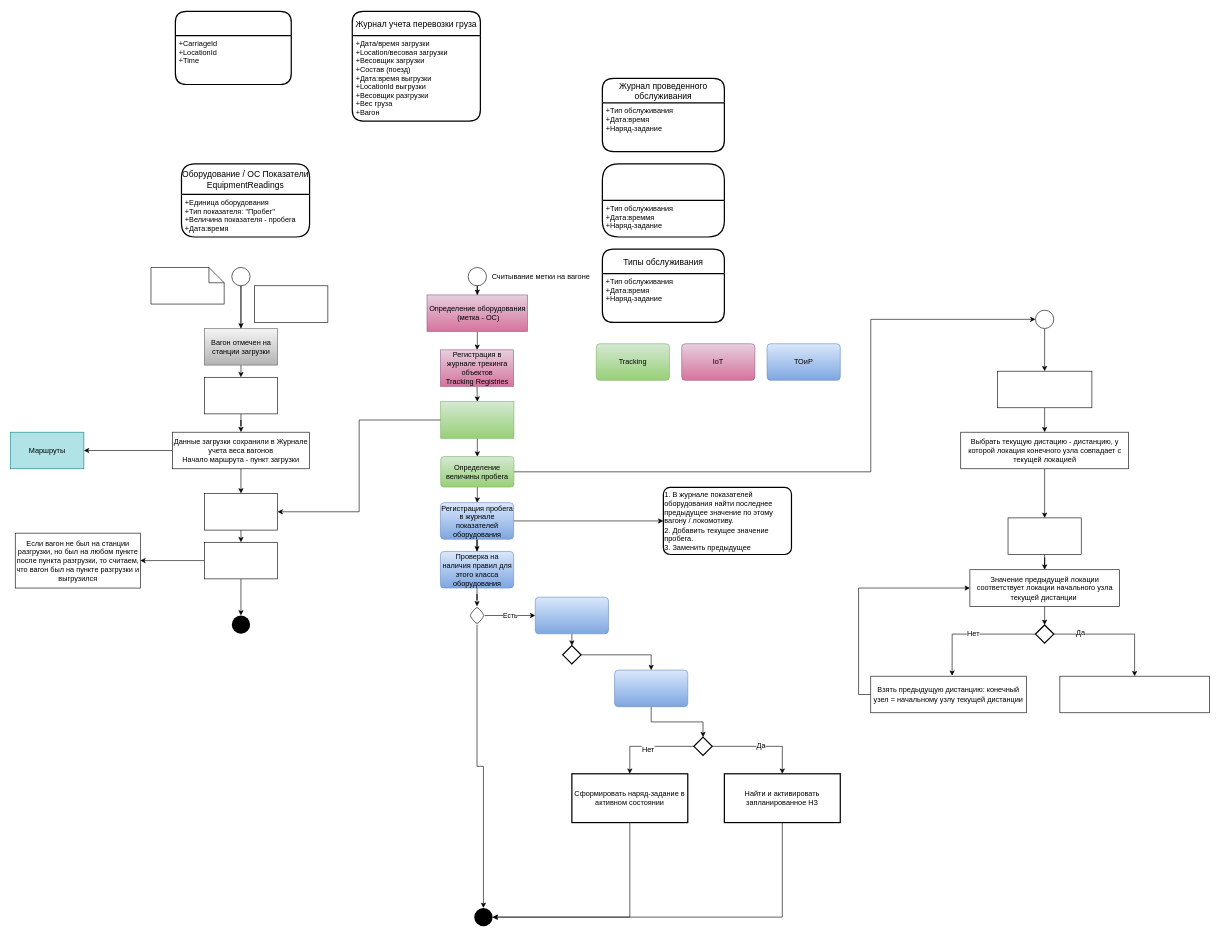
Image size: 1221x936. Some labels were removed from this diagram. Here are the shapes that lost their labels. From the top down, the box of each, then its label:
(174, 10, 292, 85): Трекинг вагонов / Журнал локаций вагонов
(601, 163, 725, 237): Правила формирования наряд-заданий на обслуживание
(150, 267, 224, 304): Регистрация грузов
(204, 377, 278, 414): На весовой ввели данные по весу вагона на экранной форме
(997, 371, 1092, 408): Выбрать дистанции по маршруту
(440, 401, 514, 438): Обработчик событий появления в пункте трекинга
(204, 493, 278, 530): Вагон отмечен на станции разгрузки
(1007, 517, 1081, 554): Найти предыдущее значение локации по Журналу трекинга
(204, 542, 278, 579): В Журнале учета веса вагонов отмечаем данные по разгрузке
(535, 597, 608, 634): Условие по показателю выполнилось?
(614, 669, 688, 707): НЗ формируется наперед?
(1059, 676, 1209, 713): Значение пробега равно сумме длин перебранных дистанций
